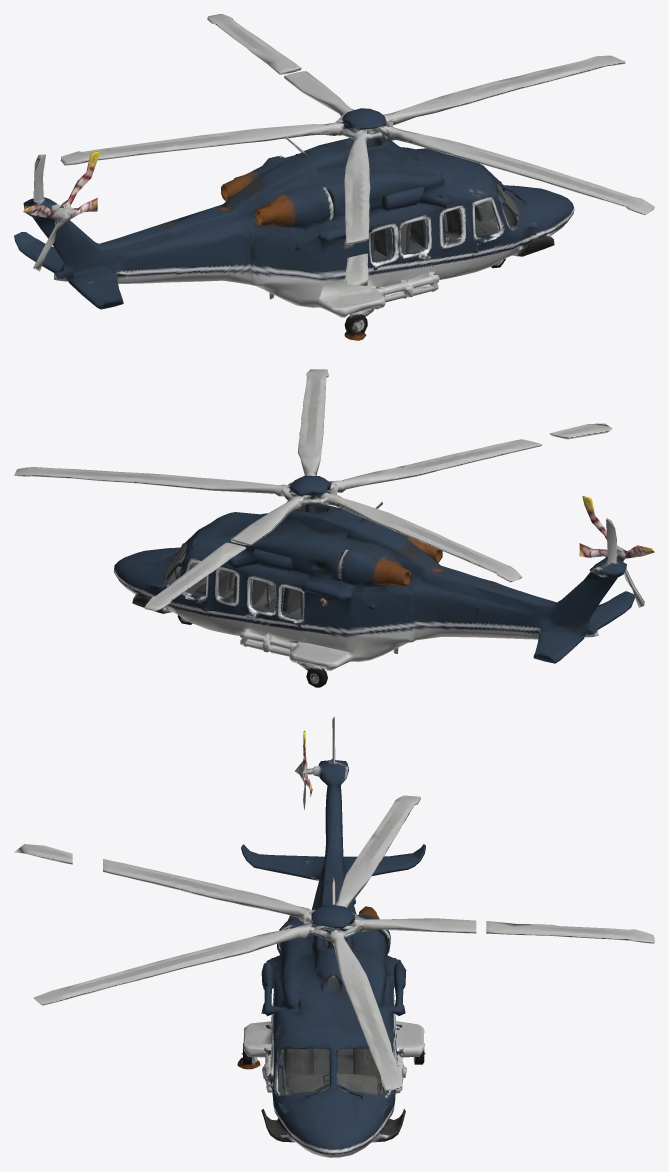
File: helicopter.glb
The picture shows the model from 3 angles, top to bottom: view 1: azimuth 30°, elevation 25°; view 2: azimuth 150°, elevation 25°; view 3: azimuth 270°, elevation 25°; orthographic projection. The views are drawn at different scales.
Parts seen in each view (by area): view 1: tripo_node_1a1779c4-9604-41cc-9ce4-dbd221ecb575; view 2: tripo_node_1a1779c4-9604-41cc-9ce4-dbd221ecb575; view 3: tripo_node_1a1779c4-9604-41cc-9ce4-dbd221ecb575.
Part boxes in pixels (left/top/right/bottom): tripo_node_1a1779c4-9604-41cc-9ce4-dbd221ecb575: left=14, top=14, right=654, bottom=340; tripo_node_1a1779c4-9604-41cc-9ce4-dbd221ecb575: left=14, top=369, right=654, bottom=687; tripo_node_1a1779c4-9604-41cc-9ce4-dbd221ecb575: left=14, top=716, right=654, bottom=1157.
Size of the model in its own units: 1 by 0.3299 by 0.8645.
Materials: 1 (1 with a texture image).
